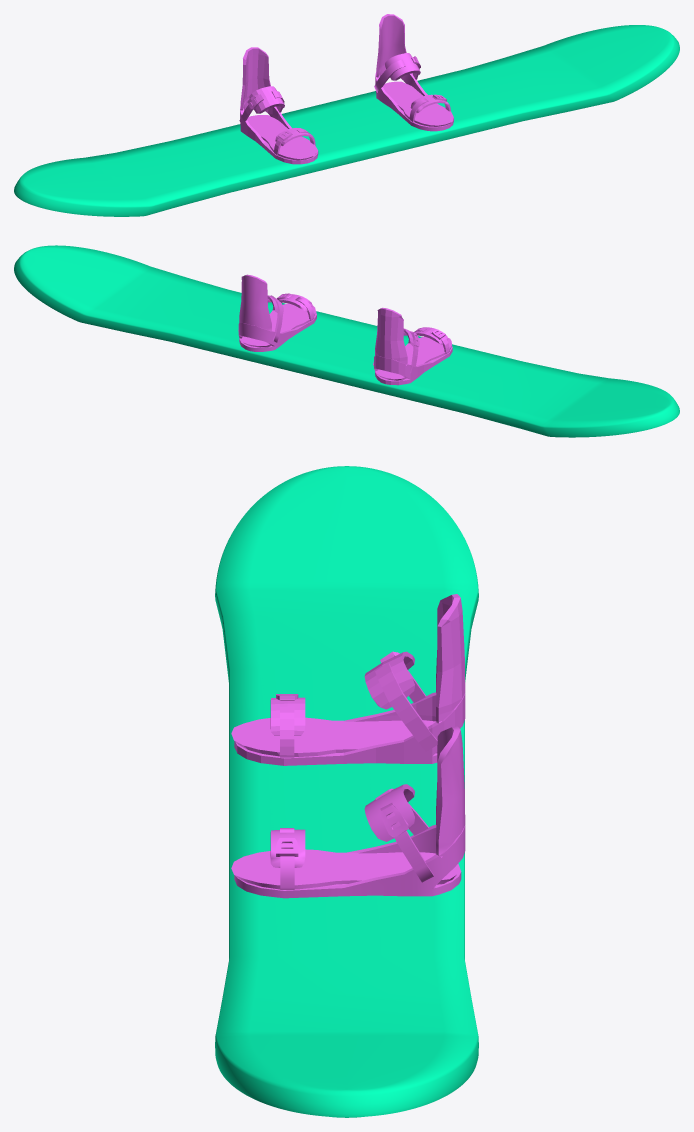
The model's file is veneer.fbx.
3 renders of one model, top to bottom at view 1: azimuth 30°, elevation 25°; view 2: azimuth 150°, elevation 25°; view 3: azimuth 270°, elevation 25°, orthographic. The views are drawn at different scales.
Visible parts, largest first — view 1: danban, danguding, dangudingr; view 2: danban, danguding, dangudingr; view 3: danban, danguding, dangudingr.
Boxes of the visible parts, x1=… form: danban: x1=14, y1=25, x2=679, y2=216; danguding: x1=374, y1=14, x2=453, y2=131; dangudingr: x1=239, y1=47, x2=318, y2=164; danban: x1=14, y1=245, x2=679, y2=437; danguding: x1=238, y1=274, x2=316, y2=351; dangudingr: x1=373, y1=307, x2=452, y2=385; danban: x1=215, y1=466, x2=478, y2=1117; danguding: x1=231, y1=726, x2=465, y2=898; dangudingr: x1=231, y1=594, x2=465, y2=765.
Size of the model in its own units: 237 by 29.29 by 41.4.
